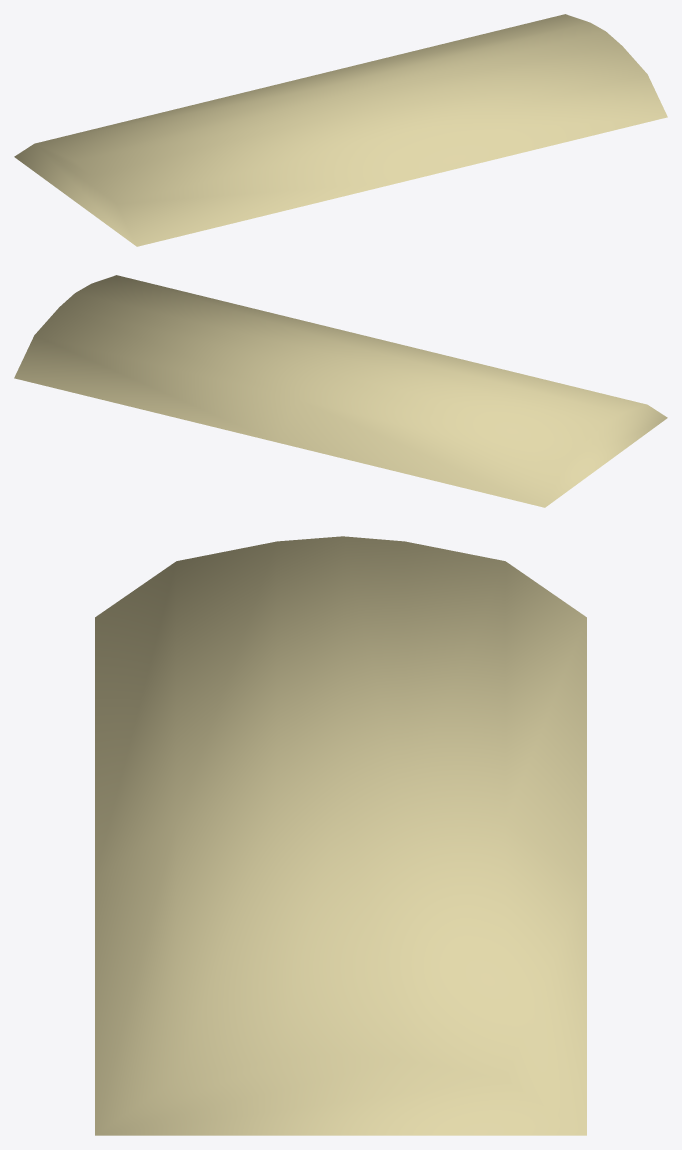
The model's file is Quebra mola.fbx.
The picture shows the model from 3 angles, top to bottom: view 1: azimuth 30°, elevation 25°; view 2: azimuth 150°, elevation 25°; view 3: azimuth 270°, elevation 25°; orthographic projection. The views are drawn at different scales.
Visible parts, largest first — view 1: UTM_model_0.001; view 2: UTM_model_0.001; view 3: UTM_model_0.001.
Part boxes in pixels (bbox=[...]): UTM_model_0.001: bbox=[14, 14, 667, 246]; UTM_model_0.001: bbox=[14, 275, 667, 507]; UTM_model_0.001: bbox=[95, 536, 586, 1135].
Bounding box in the file's own units: 585 × 42.64 × 234.
